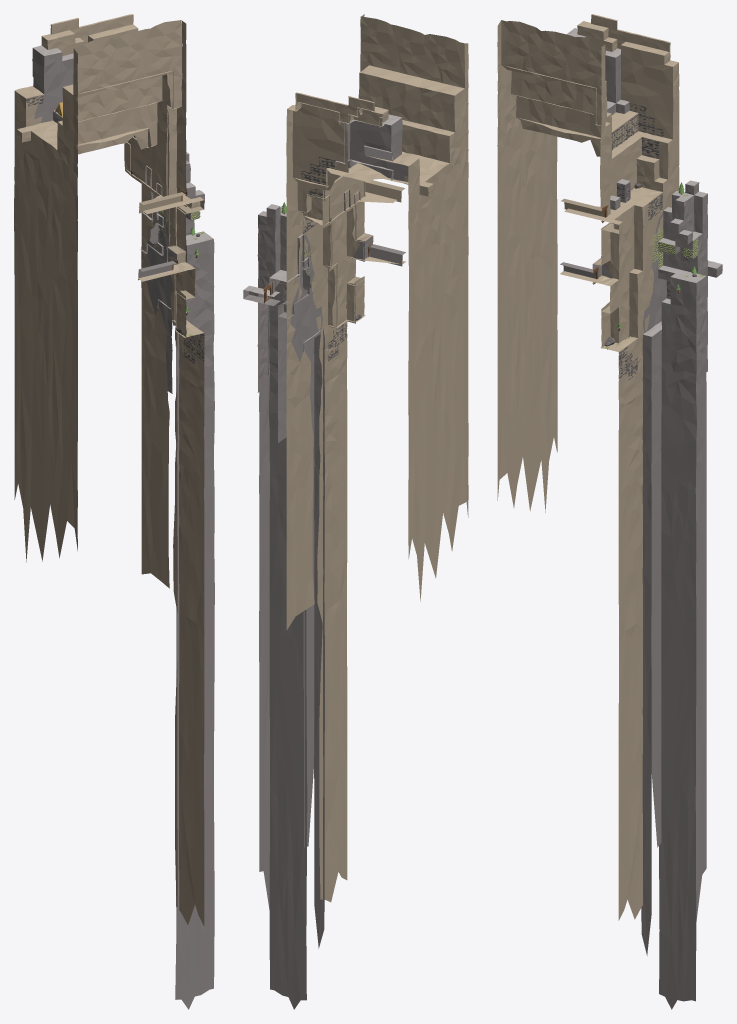
The picture shows the model from 3 angles, left to right: view 1: azimuth 30°, elevation 25°; view 2: azimuth 150°, elevation 25°; view 3: azimuth 330°, elevation 25°; orthographic projection. The views are drawn at different scales.
Visible parts, largest first — view 1: 11; view 2: 11; view 3: 11.
Boxes of the visible parts, box(x1,y1,x2,y2) form: 11: box(14, 14, 214, 1009); 11: box(243, 14, 468, 1009); 11: box(497, 14, 722, 1009).
Size of the model in its own units: 20.08 by 108 by 13.2.
1 material, 1 textured.
